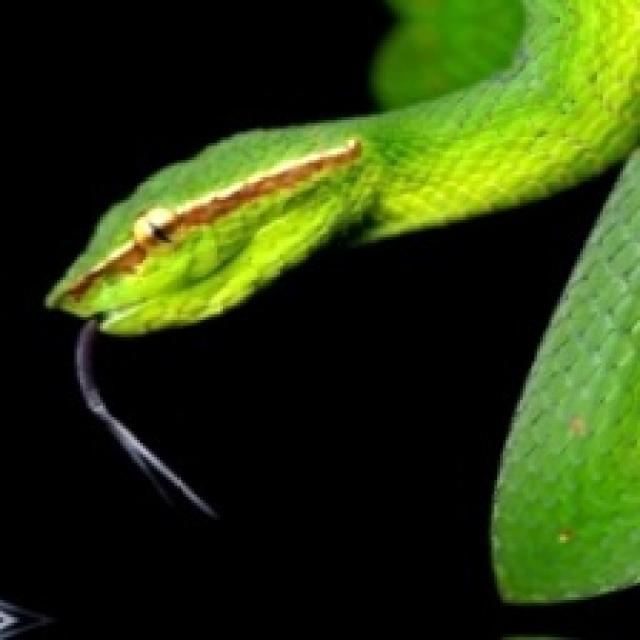north ph temple pitviper: (46, 0, 637, 600)
